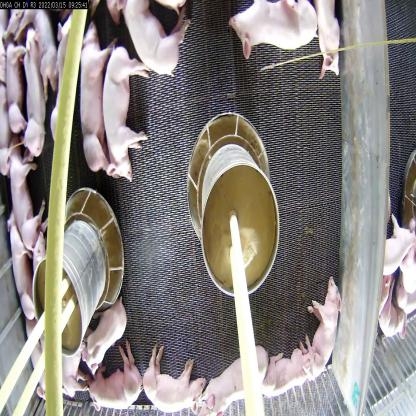Pig: (98, 42, 151, 190), (220, 1, 322, 66), (117, 0, 193, 86), (136, 336, 212, 416), (190, 342, 271, 416), (76, 18, 112, 172), (4, 140, 51, 252), (79, 338, 146, 416), (300, 271, 346, 384), (80, 284, 130, 382), (13, 7, 62, 102), (2, 210, 40, 332), (19, 20, 49, 174), (49, 19, 80, 156), (255, 345, 316, 410), (18, 311, 57, 412), (373, 204, 416, 282), (27, 227, 63, 310), (374, 272, 408, 356), (313, 3, 349, 77), (51, 338, 89, 407), (3, 41, 28, 145)
